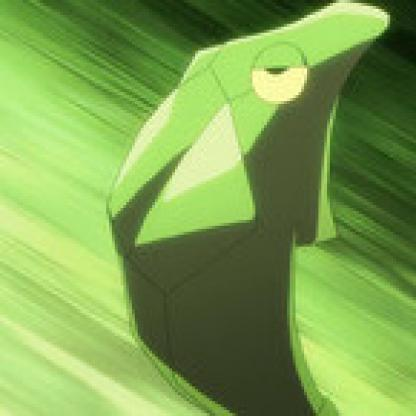Metapod: (113, 1, 397, 414)
